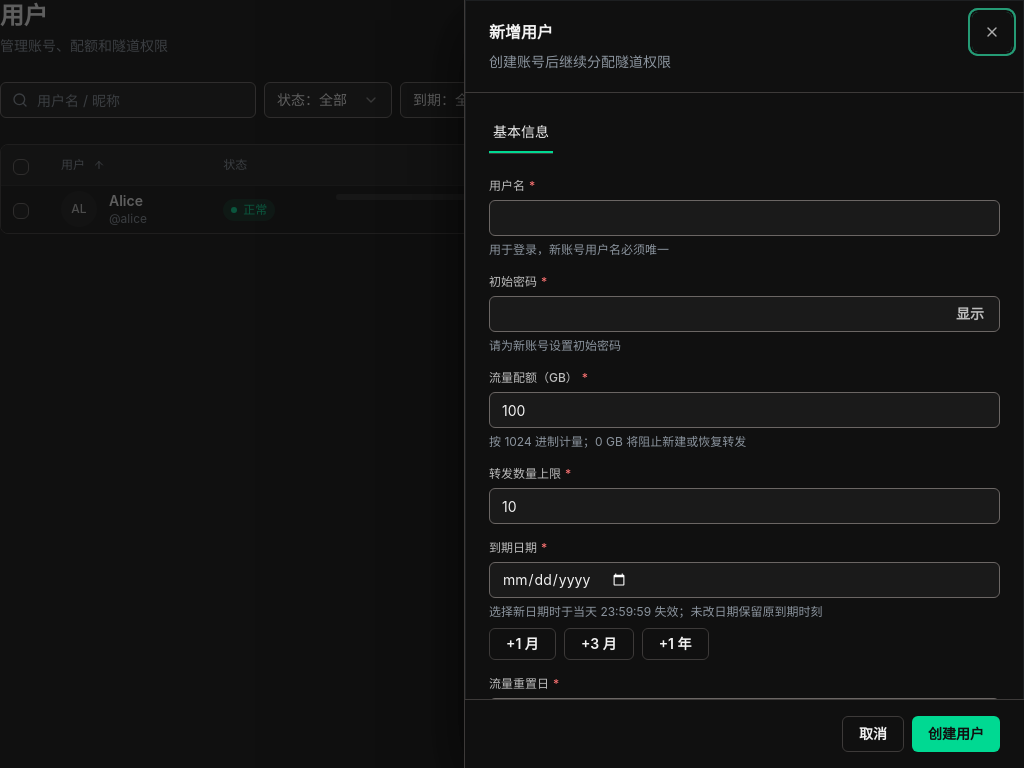
Test case: 新建缺少到期日期时定位字段错误，不发创建请求
Type "new-user" into the field labelled "用户名*" at (744, 218), box x1=489 y1=200 x2=1000 y2=236
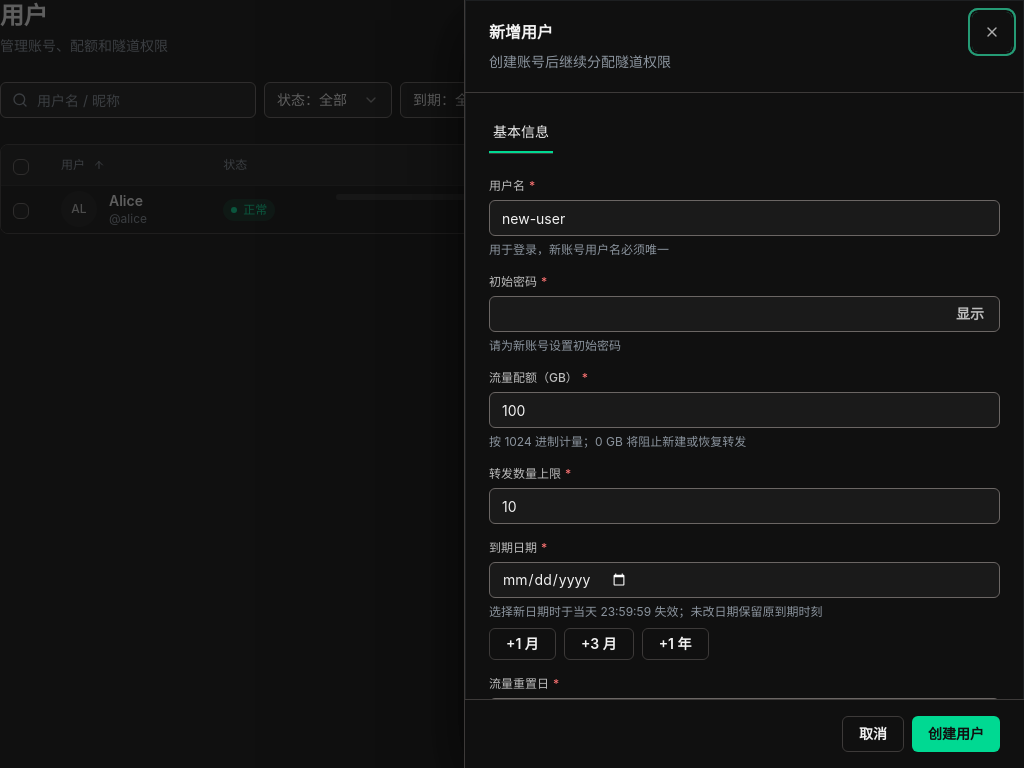
Type "password" into the password field labelled "初始密码*" at (744, 314), box x1=489 y1=296 x2=1000 y2=332
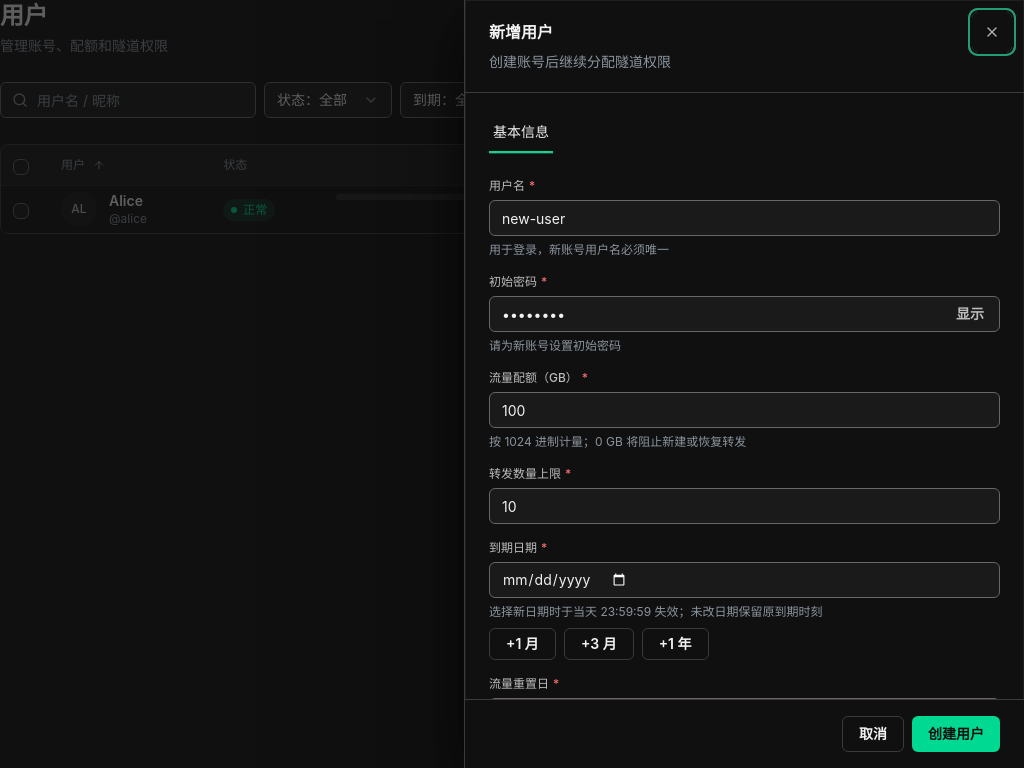
Click the button "创建用户" at (956, 734), box x1=912 y1=716 x2=1000 y2=752
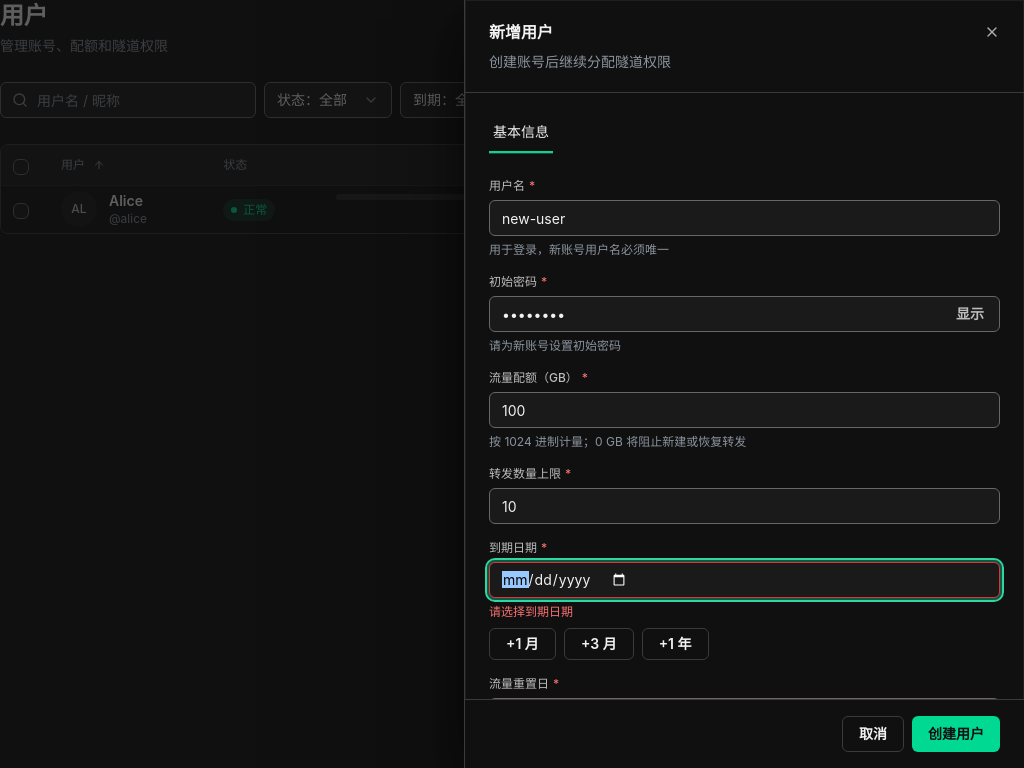
Expected: the text "请选择到期日期" is shown, x1=489 y1=604 x2=573 y2=619
